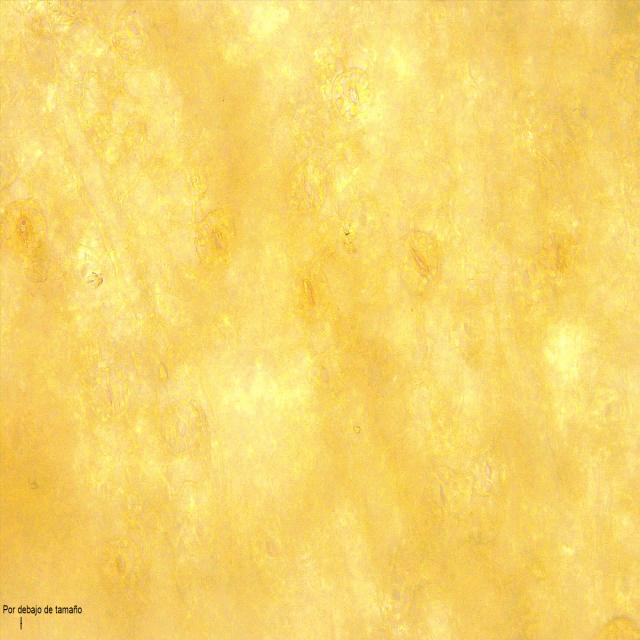Stomata: (94, 533, 147, 602), (396, 227, 446, 299), (0, 195, 48, 266), (192, 207, 239, 273), (329, 65, 379, 125), (289, 263, 334, 327), (284, 158, 329, 218), (160, 398, 202, 459), (112, 0, 157, 56), (89, 365, 131, 424), (422, 464, 466, 520), (376, 572, 418, 625), (469, 450, 510, 498), (541, 228, 579, 279), (588, 386, 632, 427)
